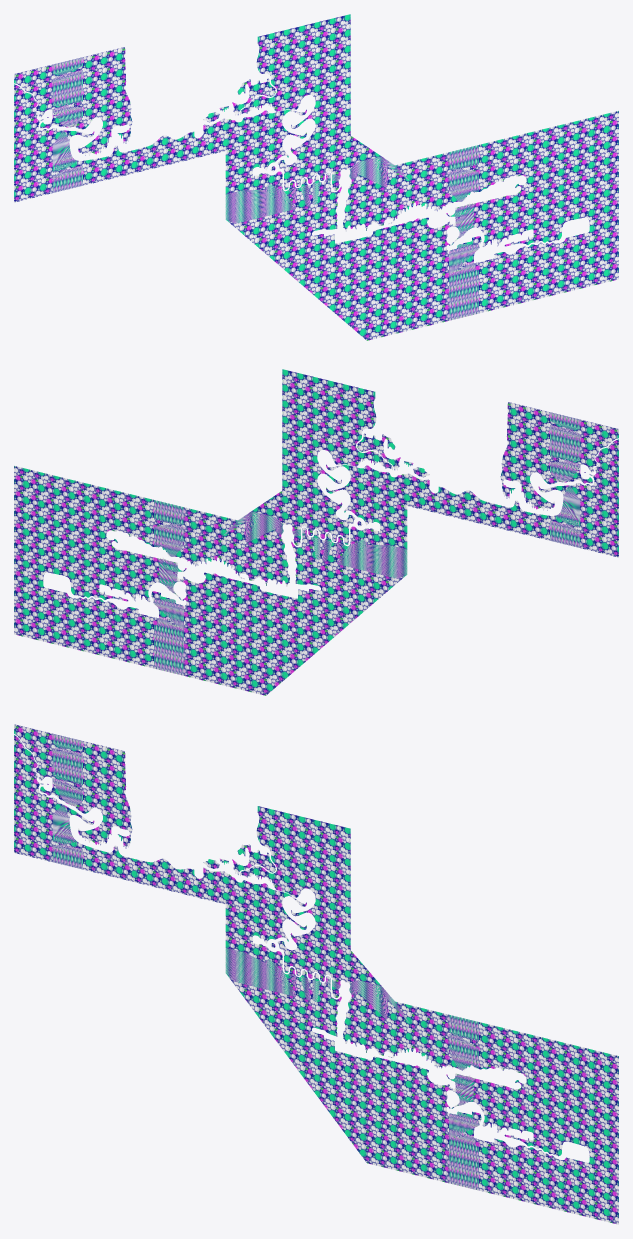
File: snow01.glb
3 renders of one model, top to bottom at view 1: azimuth 30°, elevation 25°; view 2: azimuth 150°, elevation 25°; view 3: azimuth 330°, elevation 25°, orthographic.
Parts seen in each view (by area): view 1: snow01; view 2: snow01; view 3: snow01.
Part boxes in pixels (x1,y1,x2,y2): snow01: (14, 14, 618, 340); snow01: (14, 369, 618, 695); snow01: (14, 724, 618, 1224).
Size of the model in its own units: 7943 by 4429 by 1.
Materials: 1 (1 with a texture image).
